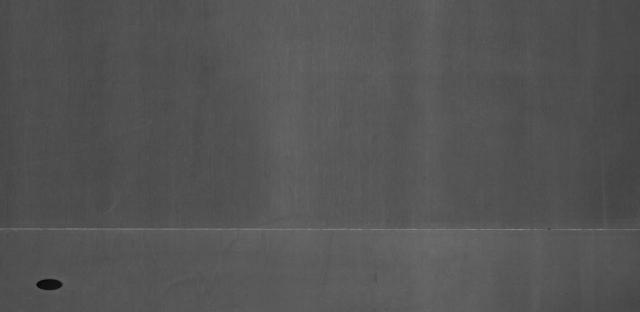punching_hole: (29, 275, 72, 294)
welding_line: (1, 220, 640, 238)
